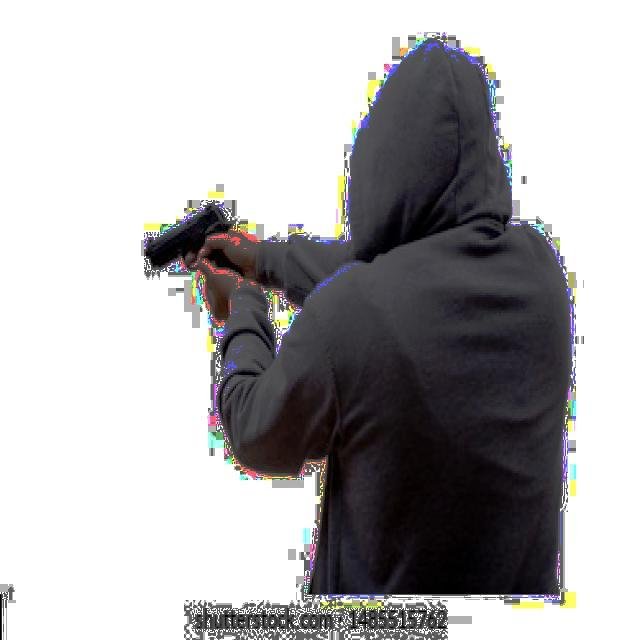Gun: (131, 199, 247, 293)
